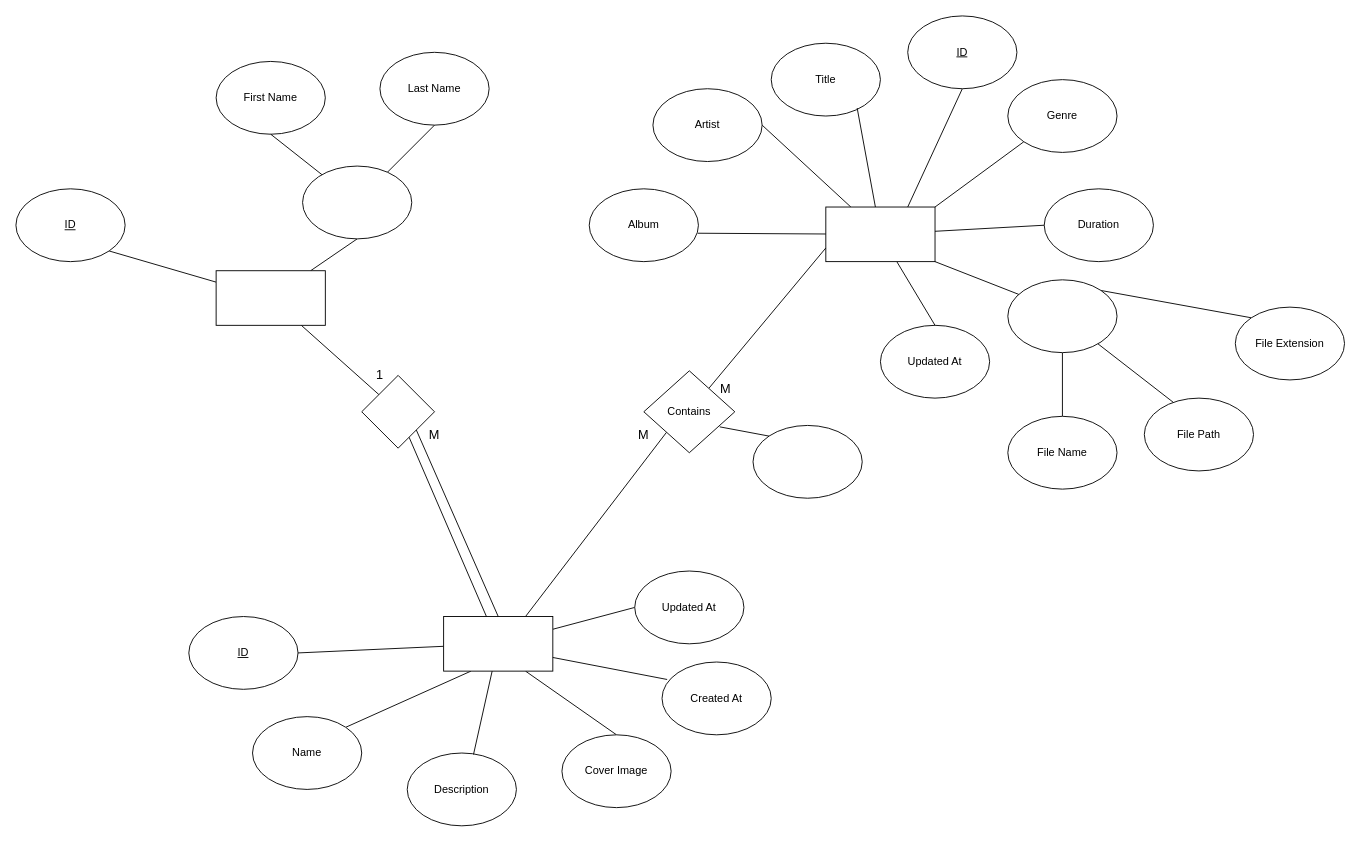
Some shapes in this 1360 by 842 pixel diagram are drawn without their labels. Here are the shapes that lost their labels. From the top down, the box of each, then its label:
(302, 165, 412, 239): Full name
(825, 206, 935, 262): Song
(215, 270, 325, 325): User
(1007, 279, 1117, 353): SongFile
(361, 374, 435, 448): Has
(752, 425, 862, 498): Order
(443, 616, 553, 671): Playlist
